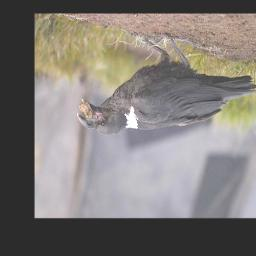Crow: (75, 29, 256, 139)
